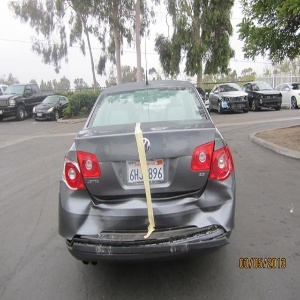bumper: (82, 203, 231, 257)
